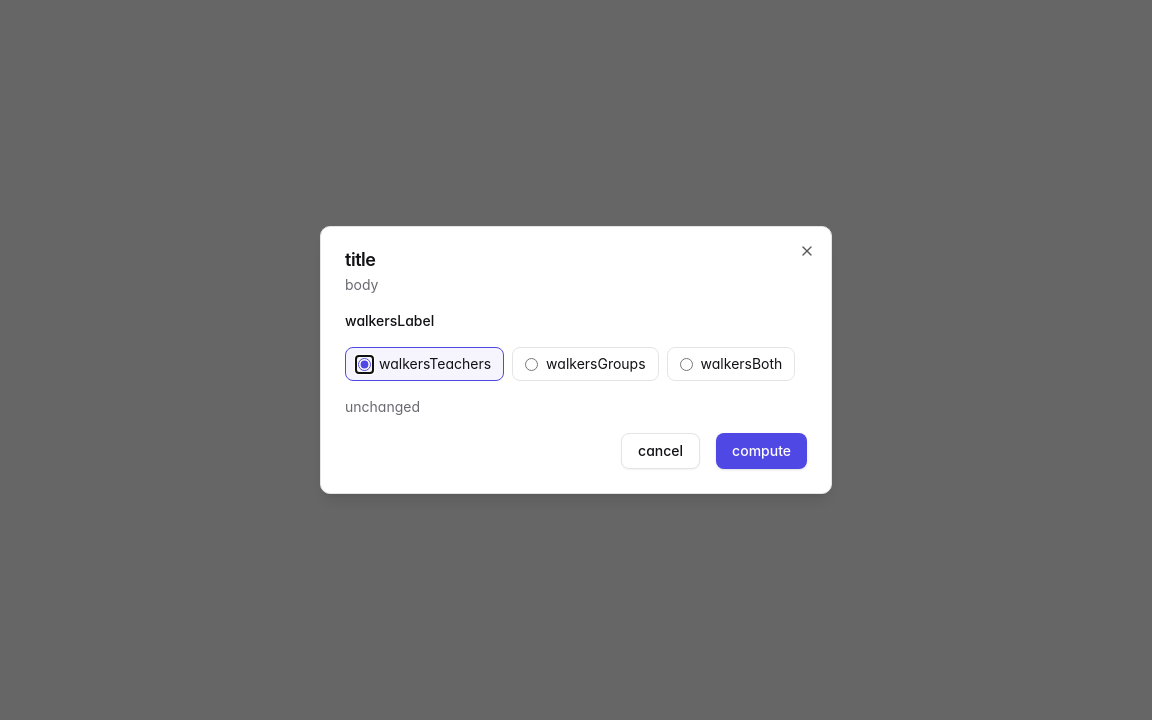
Test case: the proposal › counts the walking before and after, for teachers and classes both
Click the button "compute" at (762, 451), box [716,433,807,469]
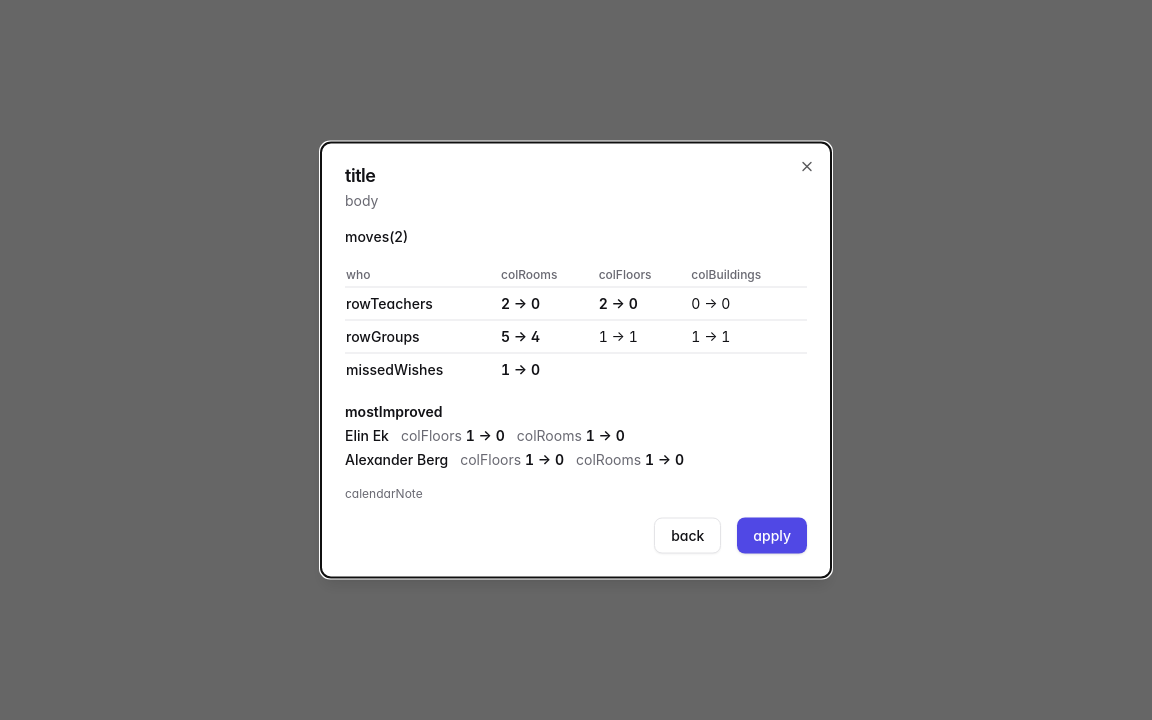
Expected: the cells read "2 → 0", "2 → 0", "0 → 0", in this order, [500,287,598,320]; [598,287,690,320]; [690,287,807,320]
Expected: the cells read "5 → 4", "1 → 1", "1 → 1", in this order, [500,320,598,353]; [598,320,690,353]; [690,320,807,353]
Expected: the row "missedWishes 1 → 0" is shown, [345,353,807,386]
